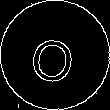O_N: (29, 26, 81, 84)
